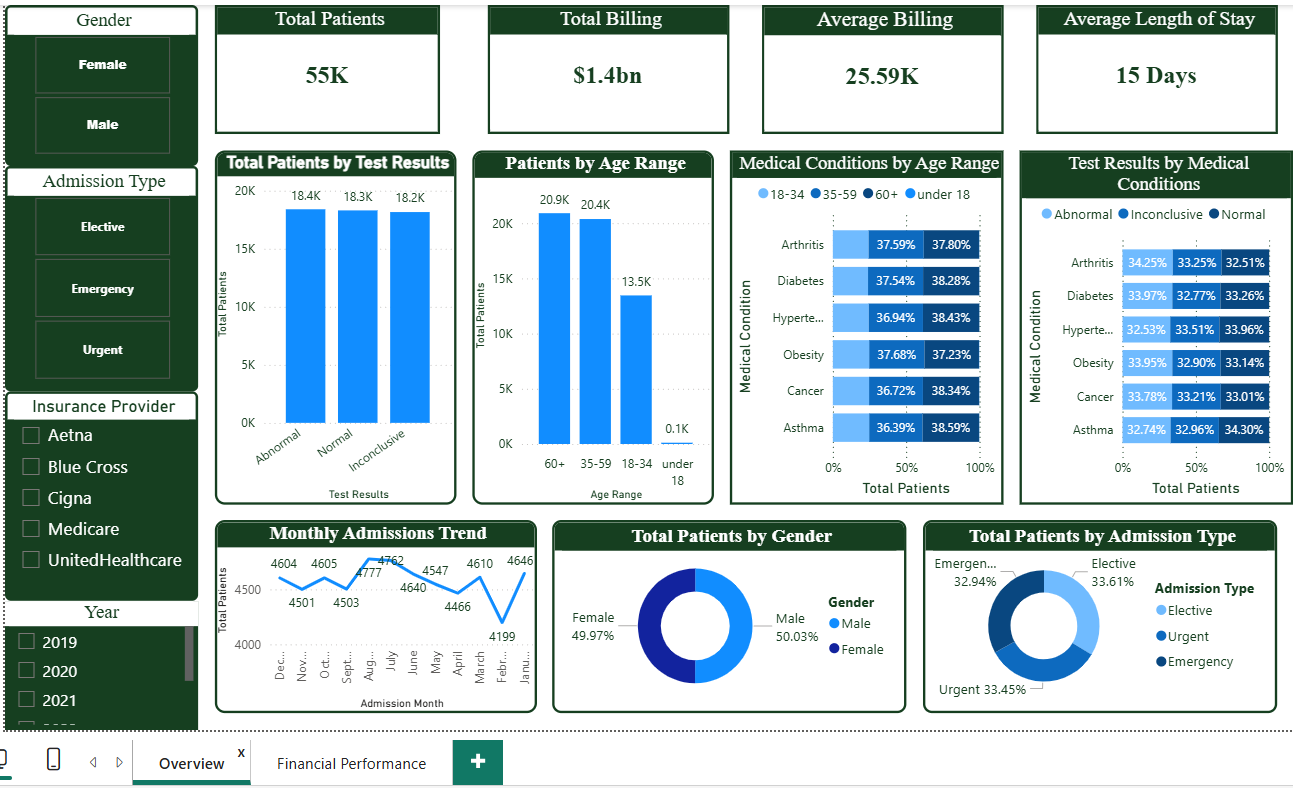

Layout of this report page (visuals, bound fields, positions):
{"tool":"powerbi","page":{"name":"Overview","canvas":[1280,720],"ordinal":0},"visuals":[{"type":"cardVisual","title":"Total Patients","fields":{"Data":["Measure.Total Patients"]},"box":[208,0,224,128],"z":0},{"type":"cardVisual","title":"Total Billing","fields":{"Data":["Measure.Total Billing"]},"box":[480,0,240,128],"z":1000},{"type":"cardVisual","title":"Average Length of Stay","fields":{"Data":["Measure.Average Length of Stay"]},"box":[1024,0,240,128],"z":2000},{"type":"cardVisual","title":"Average Billing","fields":{"Data":["Avg(healthcare_dataset.Billing Amount)"]},"box":[752,0,240,128],"z":3000},{"type":"lineChart","title":"Monthly Admissions Trend","fields":{"Category":["healthcare_dataset.Admission Month"],"Y":["Measure.Total Patients"]},"box":[208,512,320,192],"z":4000},{"type":"donutChart","fields":{"Category":["healthcare_dataset.Admission Type"],"Y":["Measure.Total Patients"]},"box":[912,512,352,192],"z":5000},{"type":"clusteredColumnChart","fields":{"Category":["healthcare_dataset.Test Results"],"Y":["Measure.Total Patients"]},"box":[208,144,240,352],"z":6000},{"type":"slicer","title":"Year","fields":{"Values":["healthcare_dataset.Admission Year"]},"box":[0,592,192,128],"z":7000},{"type":"slicer","title":"Gender","fields":{"Values":["healthcare_dataset.Gender"]},"box":[0,0,192,160],"z":8000},{"type":"slicer","title":"Admission Type","fields":{"Values":["healthcare_dataset.Admission Type"]},"box":[0,160,192,224],"z":9000},{"type":"slicer","title":"Insurance Provider","fields":{"Values":["healthcare_dataset.Insurance Provider"]},"box":[0,384,192,208],"z":10000},{"type":"clusteredColumnChart","title":"Patients by Age Range","fields":{"Category":["healthcare_dataset.Age Range"],"Y":["Measure.Total Patients"]},"box":[464,144,240,352],"z":11000},{"type":"hundredPercentStackedBarChart","title":"Medical Conditions by Age Range","fields":{"Category":["healthcare_dataset.Medical Condition"],"Y":["Measure.Total Patients"],"Series":["healthcare_dataset.Age Range"]},"box":[720,144,272,352],"z":12000},{"type":"donutChart","fields":{"Y":["Measure.Total Patients"],"Category":["healthcare_dataset.Gender"]},"box":[544,512,352,192],"z":13000},{"type":"hundredPercentStackedBarChart","title":"Test Results by Medical Conditions","fields":{"Category":["healthcare_dataset.Medical Condition"],"Y":["Measure.Total Patients"],"Series":["healthcare_dataset.Test Results"]},"box":[1008,144,272,352],"z":14000}]}

Visuals, with their boxes on the page's 1280x720 design canvas (x1, y1, x2, y2). These are canvas units, not pixel positions in the 1293x788 screenshot, which may show the page scaled, cropped or inside an application window:
"Total Patients" cardVisual: bbox(208, 0, 432, 128)
"Total Billing" cardVisual: bbox(480, 0, 720, 128)
"Average Length of Stay" cardVisual: bbox(1024, 0, 1264, 128)
"Average Billing" cardVisual: bbox(752, 0, 992, 128)
"Monthly Admissions Trend" lineChart: bbox(208, 512, 528, 704)
donutChart - healthcare_dataset.Admission Type x Measure.Total Patients: bbox(912, 512, 1264, 704)
clusteredColumnChart - healthcare_dataset.Test Results x Measure.Total Patients: bbox(208, 144, 448, 496)
"Year" slicer: bbox(0, 592, 192, 720)
"Gender" slicer: bbox(0, 0, 192, 160)
"Admission Type" slicer: bbox(0, 160, 192, 384)
"Insurance Provider" slicer: bbox(0, 384, 192, 592)
"Patients by Age Range" clusteredColumnChart: bbox(464, 144, 704, 496)
"Medical Conditions by Age Range" hundredPercentStackedBarChart: bbox(720, 144, 992, 496)
donutChart - Measure.Total Patients x healthcare_dataset.Gender: bbox(544, 512, 896, 704)
"Test Results by Medical Conditions" hundredPercentStackedBarChart: bbox(1008, 144, 1280, 496)
